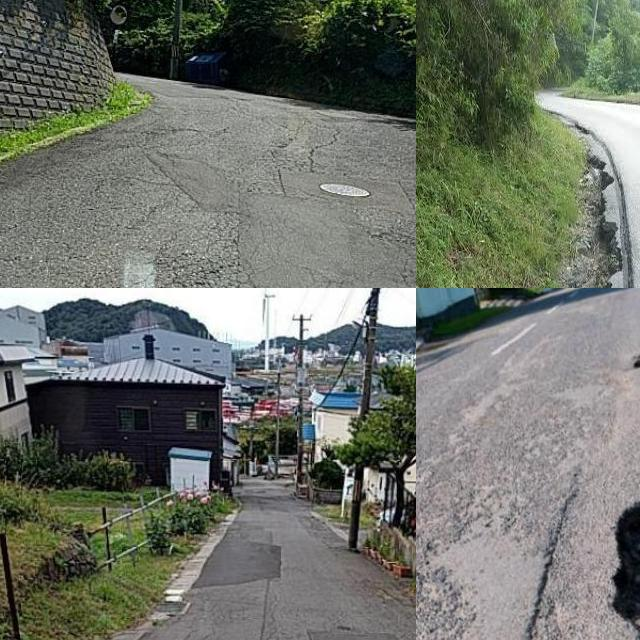Pinggir: (544, 136, 640, 288)
Retak Buaya: (85, 241, 239, 288)
Sambungan: (185, 539, 288, 591), (305, 627, 399, 640)
